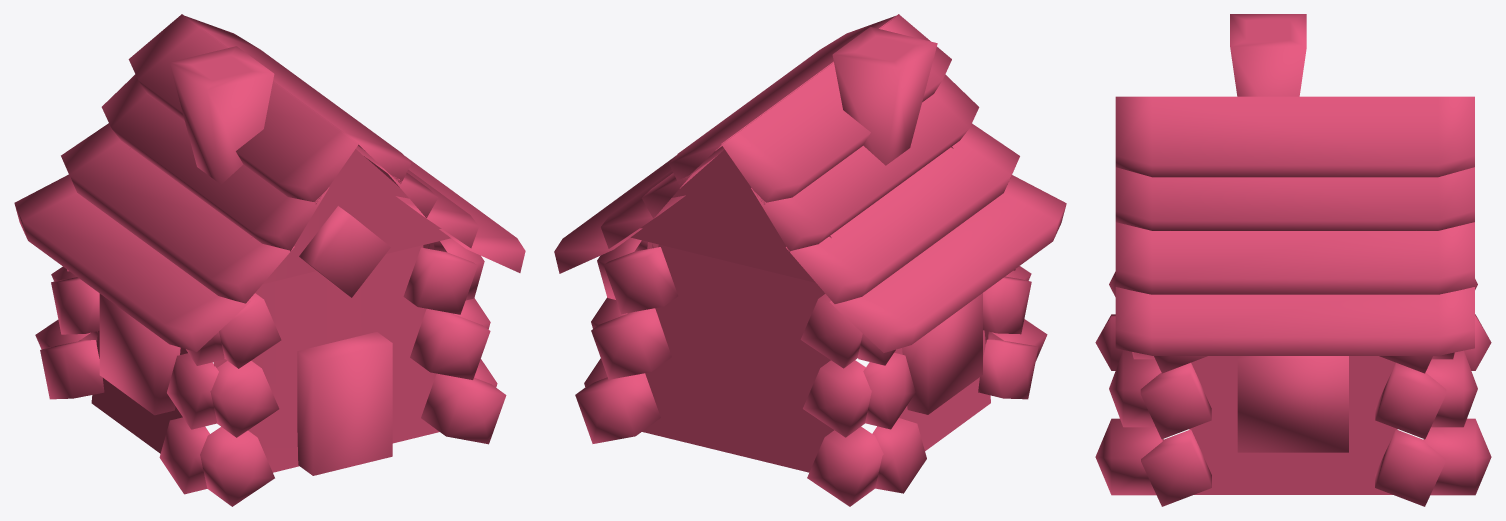
The model's file is SM_Refuge_01_LOD2.fbx.
3 renders of one model, left to right at view 1: azimuth 30°, elevation 25°; view 2: azimuth 150°, elevation 25°; view 3: azimuth 270°, elevation 25°, orthographic.
Visible parts, largest first — view 1: SM_Refuge_01_LOD2; view 2: SM_Refuge_01_LOD2; view 3: SM_Refuge_01_LOD2.
Boxes of the visible parts, <box> form: SM_Refuge_01_LOD2: <box>14,14,525,506</box>; SM_Refuge_01_LOD2: <box>554,14,1066,506</box>; SM_Refuge_01_LOD2: <box>1095,14,1491,506</box>.
Bounding box in the file's own units: 582 × 576 × 557.
